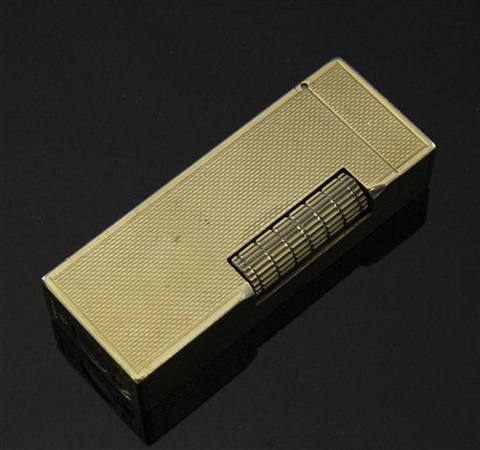Nonrec_Other: (27, 46, 434, 418)
